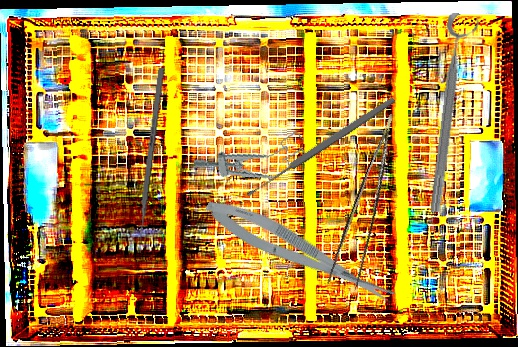Fixation Ring: (424, 12, 482, 215)
Micro Scissor: (199, 188, 400, 317)
Pusher: (135, 67, 165, 252)
Speculum: (192, 129, 310, 193)
Surgical Spoon: (244, 95, 397, 199)
Tissue Forceps: (320, 113, 422, 299)
